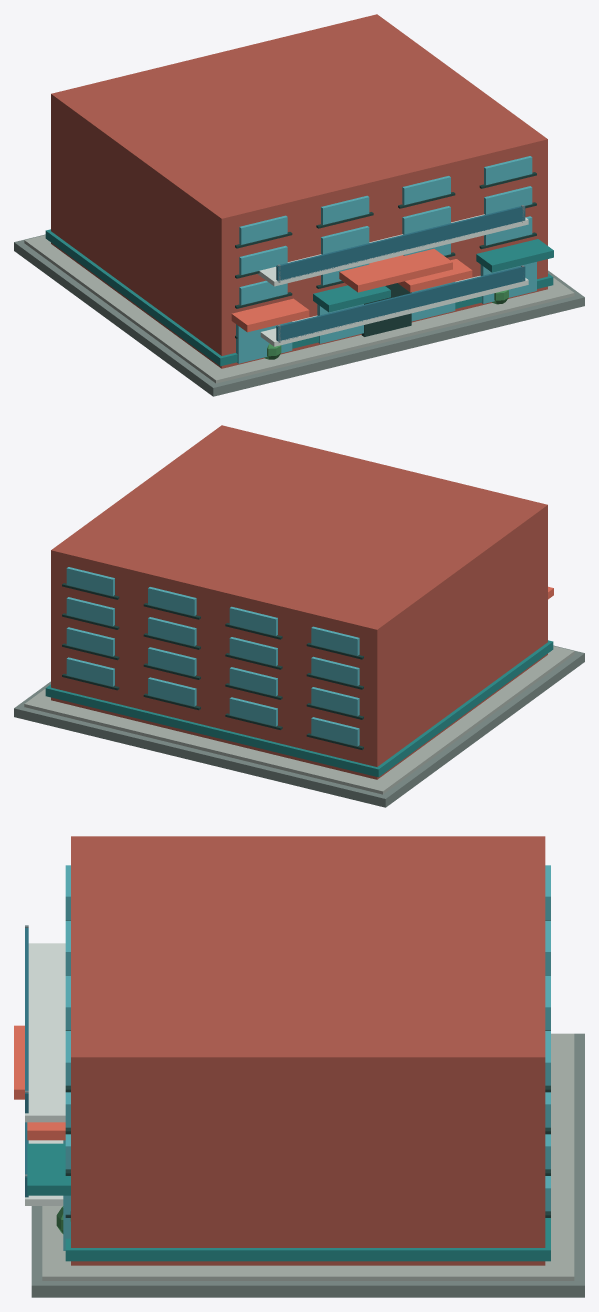
Rendered from mixed_use_lv1.glb.
3 renders of one model, top to bottom at view 1: azimuth 30°, elevation 25°; view 2: azimuth 150°, elevation 25°; view 3: azimuth 270°, elevation 25°, orthographic. The views are drawn at different scales.
Visible parts, largest first — view 1: brick, glass, concrete, glassDark, pavement, teal, coral, white, dark; view 2: brick, glass, concrete, pavement, teal, dark; view 3: brick, concrete, pavement, teal, white, glass, coral, glassDark.
Part boxes in pixels (x1=…): brick: x1=51, y1=14, x2=547, y2=368; glass: x1=236, y1=156, x2=536, y2=363; concrete: x1=24, y1=235, x2=574, y2=383; glassDark: x1=276, y1=206, x2=525, y2=341; pavement: x1=14, y1=234, x2=584, y2=396; teal: x1=45, y1=229, x2=553, y2=366; coral: x1=231, y1=249, x2=472, y2=332; white: x1=257, y1=214, x2=528, y2=346; dark: x1=235, y1=172, x2=536, y2=338; brick: x1=51, y1=425, x2=547, y2=779; glass: x1=66, y1=567, x2=359, y2=746; concrete: x1=24, y1=646, x2=574, y2=794; pavement: x1=14, y1=645, x2=584, y2=807; teal: x1=45, y1=640, x2=553, y2=777; dark: x1=62, y1=583, x2=363, y2=749; brick: x1=71, y1=836, x2=545, y2=1265; concrete: x1=42, y1=1033, x2=574, y2=1280; pavement: x1=31, y1=1033, x2=584, y2=1297; teal: x1=27, y1=1143, x2=550, y2=1261; white: x1=25, y1=943, x2=65, y2=1205; glass: x1=63, y1=865, x2=550, y2=1250; coral: x1=14, y1=1025, x2=65, y2=1140; glassDark: x1=25, y1=928, x2=28, y2=1197.
Bounding box in the file's own units: 9.8 × 4.08 × 9.39.
